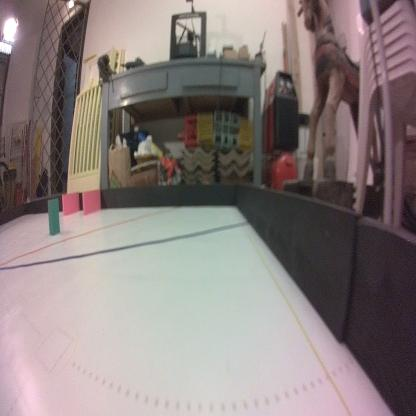green: (46, 196, 61, 236)
magenta: (81, 188, 102, 213), (60, 191, 80, 215)
